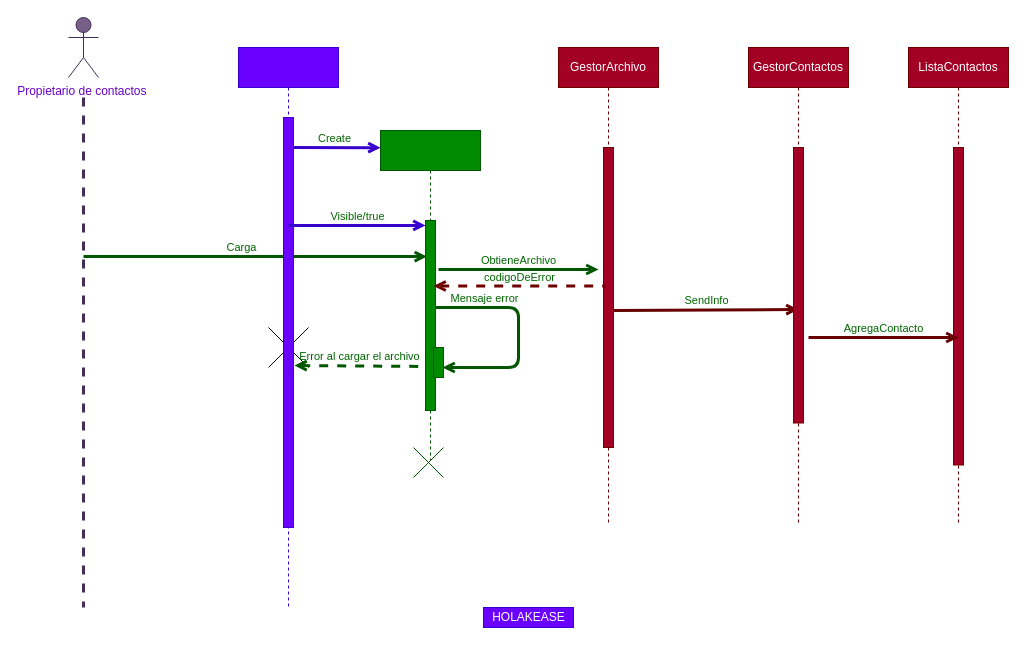
The diagram is 1026 pixels wide and 645 high, and some of its shapes have lost their labels. The box of each missing label's shape, as (x1, y1, x2, y2) in pixels:
ControlGUI: (238, 46, 338, 608)
VCarga: (380, 130, 480, 460)
